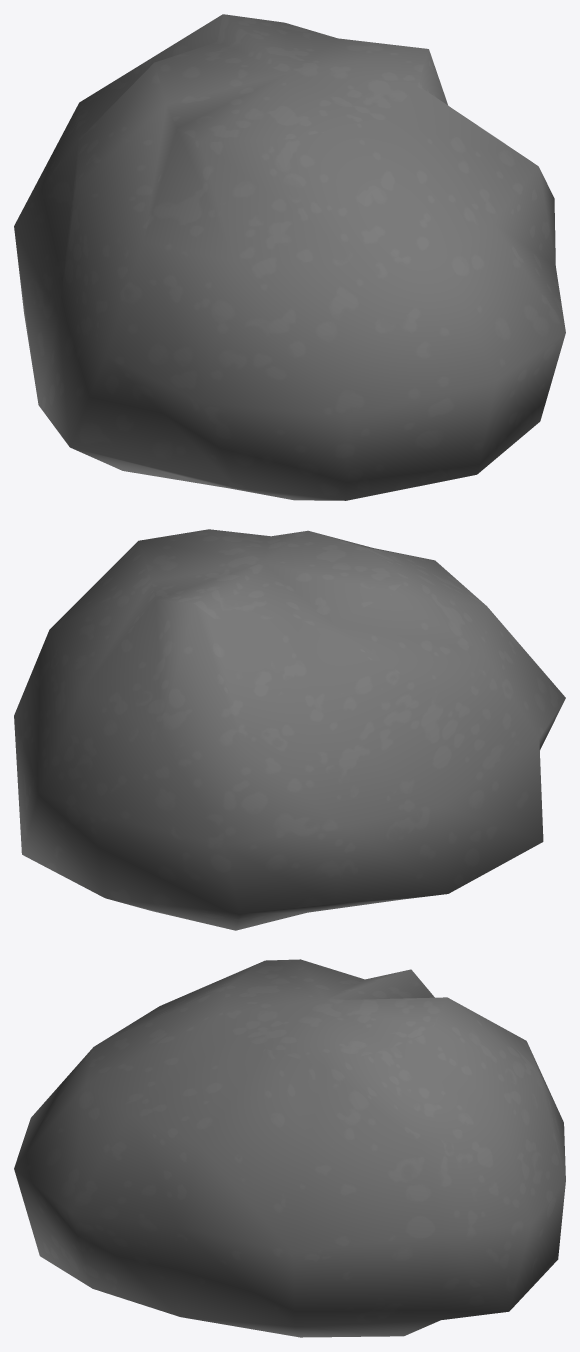
File: Roca.fbx
3 renders of one model, top to bottom at view 1: azimuth 30°, elevation 25°; view 2: azimuth 150°, elevation 25°; view 3: azimuth 270°, elevation 25°, orthographic. The views are drawn at different scales.
Visible parts, largest first — view 1: Roca; view 2: Roca; view 3: Roca.
Boxes of the visible parts, x1,y1,x2,y2 form: Roca: (14,14,565,500); Roca: (14,529,565,930); Roca: (14,959,565,1337).
Bounding box in the file's own units: 1609 × 999 × 1744.
